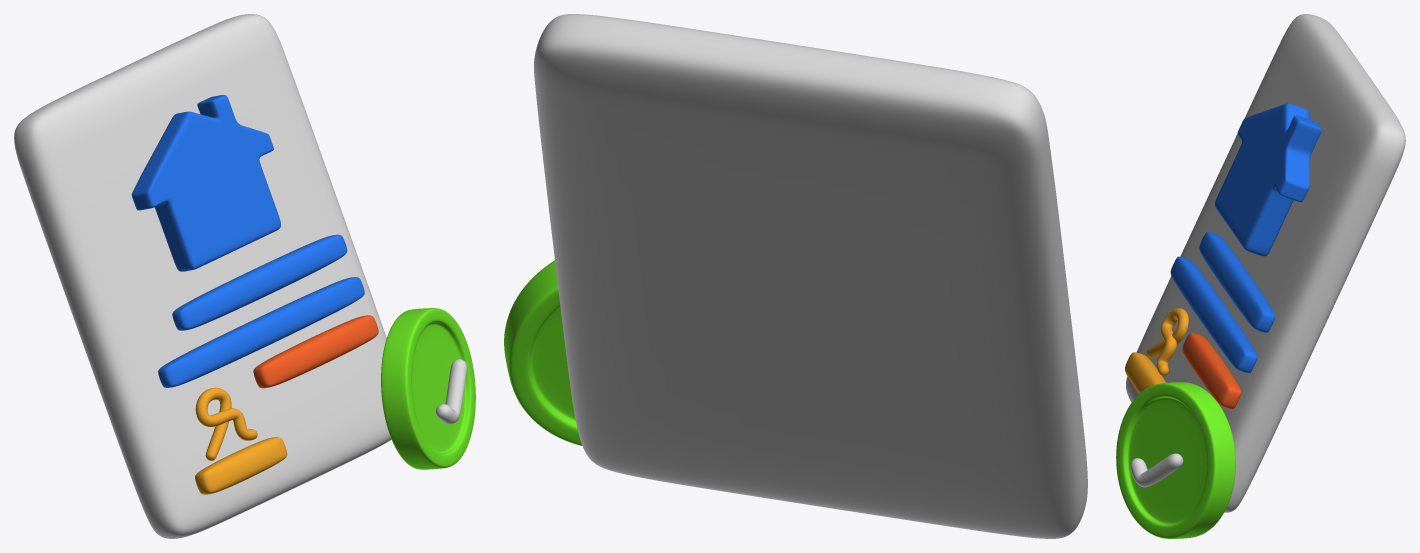
Rendered from lease-agreements-3d-animated-icon-1346966844092.glb.
3 views of the same model, side by side, from view 1: azimuth 30°, elevation 25°; view 2: azimuth 150°, elevation 25°; view 3: azimuth 270°, elevation 25° (orthographic). The views are drawn at different scales.
Parts seen in each view (by area): view 1: board, data, house, coin, signature, checklist; view 2: board, coin; view 3: board, coin, house, data, signature, checklist.
Part boxes in pixels (x1,y1,x2,y2): board: (14, 14, 391, 538); data: (158, 234, 378, 494); house: (131, 95, 280, 271); coin: (381, 308, 475, 469); signature: (195, 387, 257, 460); checklist: (435, 359, 467, 424); board: (534, 14, 1087, 538); coin: (504, 260, 582, 445); board: (1126, 14, 1405, 512); coin: (1116, 382, 1235, 538); house: (1215, 103, 1321, 256); data: (1125, 232, 1274, 408); signature: (1146, 308, 1188, 375); checklist: (1130, 453, 1183, 487).
Bounding box in the file's own units: 2.98 × 2.73 × 1.9.
